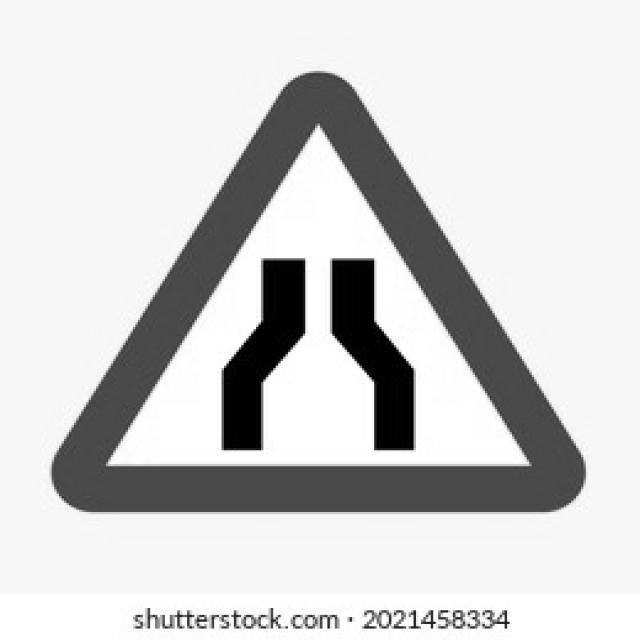narrow road ahead: (50, 74, 582, 511)
